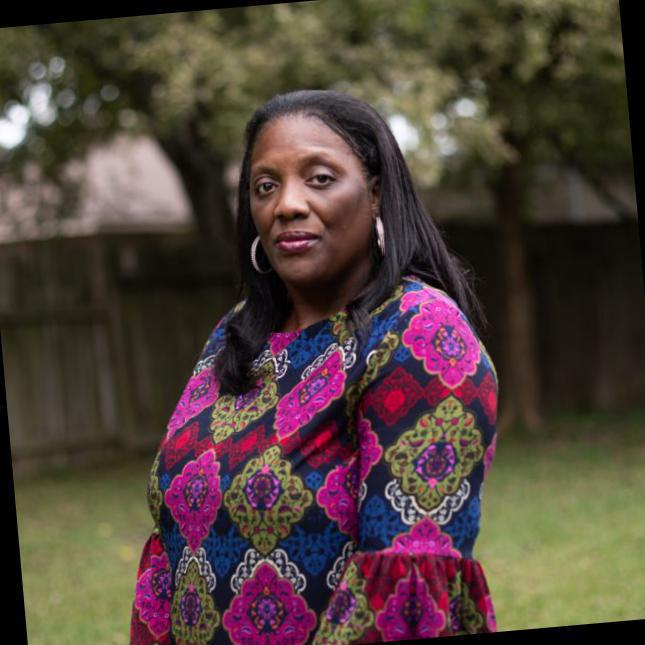Sober: (246, 129, 371, 277)
